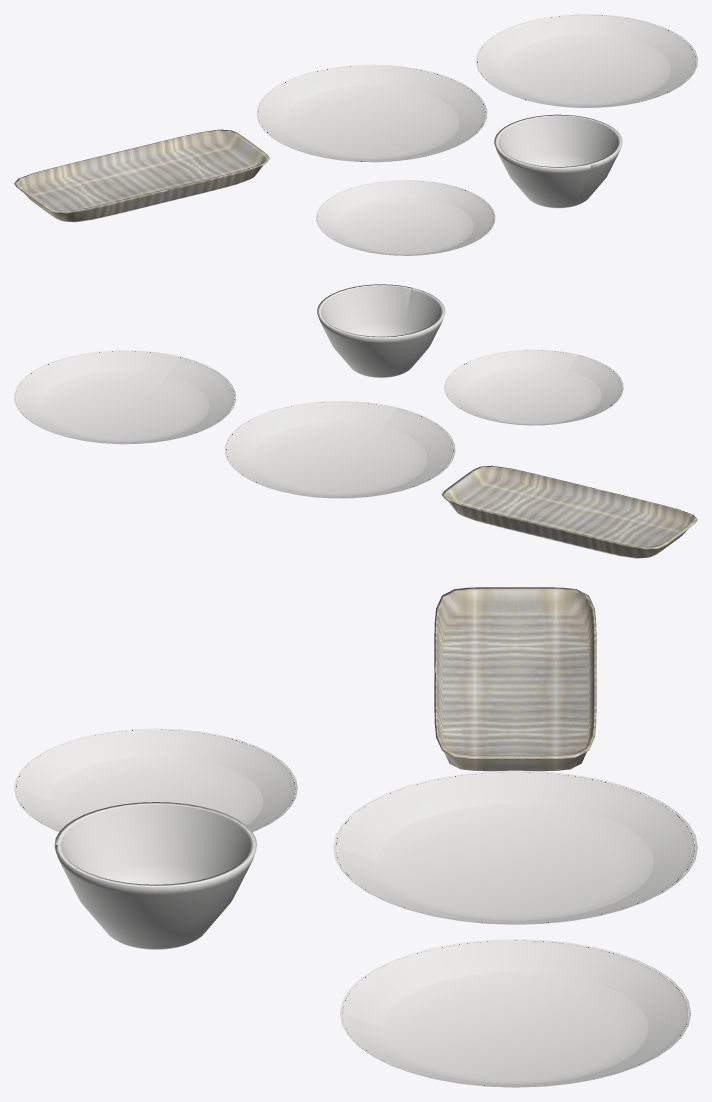
The model's file is BLC-04.glb.
The picture shows the model from 3 angles, top to bottom: view 1: azimuth 30°, elevation 25°; view 2: azimuth 150°, elevation 25°; view 3: azimuth 270°, elevation 25°; orthographic projection. The views are drawn at different scales.
Bounding box in the file's own units: 0.88 × 0.07 × 0.506.
5 materials, 1 textured.
